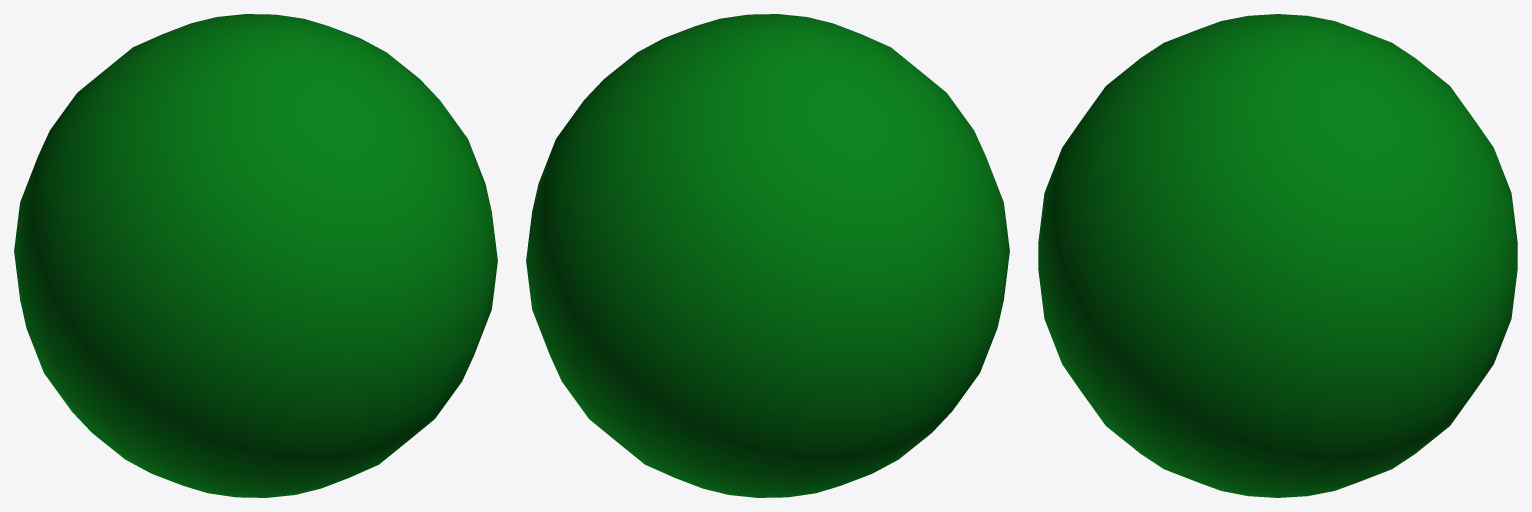
File: SnookerBall_Green.fbx
The picture shows the model from 3 angles, left to right: view 1: azimuth 30°, elevation 25°; view 2: azimuth 150°, elevation 25°; view 3: azimuth 270°, elevation 25°; orthographic projection.
Parts seen in each view (by area): view 1: SnoookerBall_Green; view 2: SnoookerBall_Green; view 3: SnoookerBall_Green.
Part boxes in pixels (bbox=[...]): SnoookerBall_Green: bbox=[14, 14, 497, 497]; SnoookerBall_Green: bbox=[526, 14, 1009, 497]; SnoookerBall_Green: bbox=[1038, 14, 1517, 497].
Bounding box in the file's own units: 0.052 × 0.052 × 0.0515.
1 material, 1 textured.
